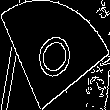O_SW: (30, 23, 80, 87)
